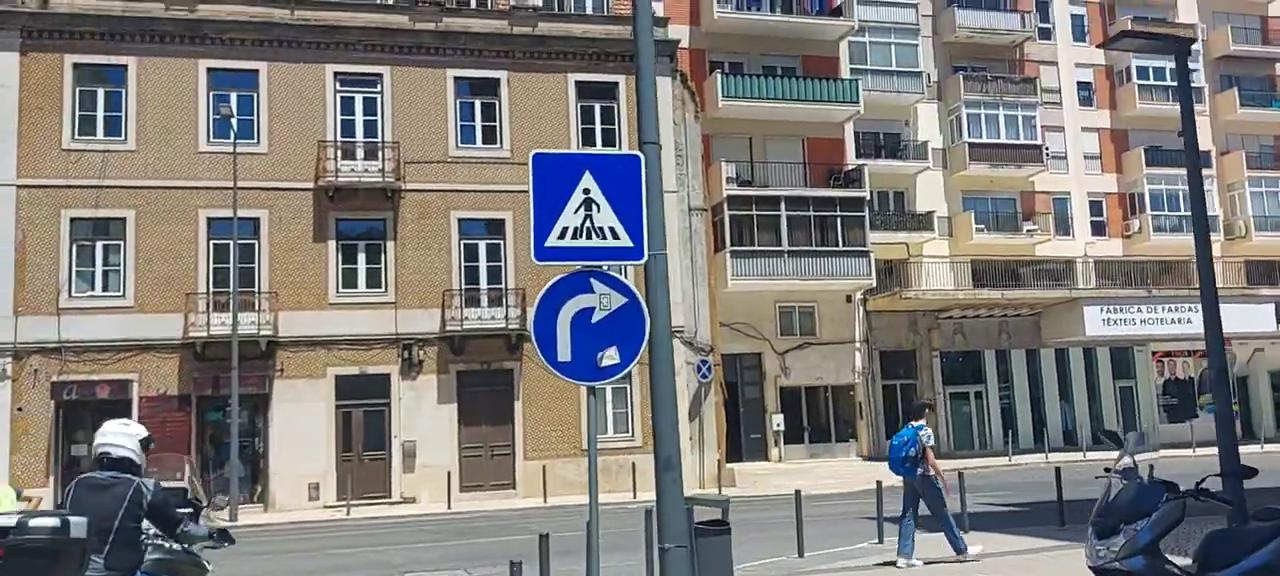passagem para peoes: (526, 148, 653, 267)
sentido obrigatorio: (527, 268, 651, 386)
